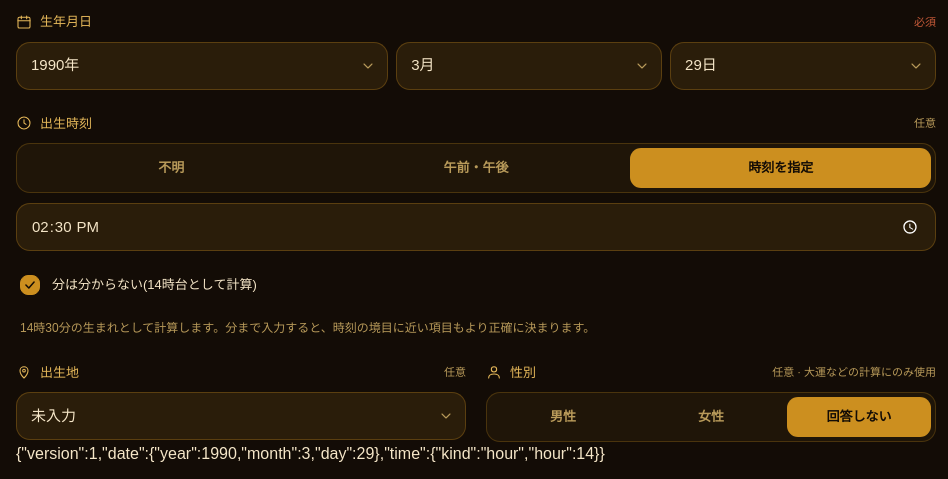
Scenario: BirthFields › 「分は分からない」を付けると分を30分にそろえ、30分以外を選ぶとチェックを外すこと
Expected: the checkbox labelled "分は分からない(14時台として計算)" is checked, [20,275,40,295]
Replace the text in the time field named "出生時刻" with "14:45": (476, 227) [16,203,936,251]
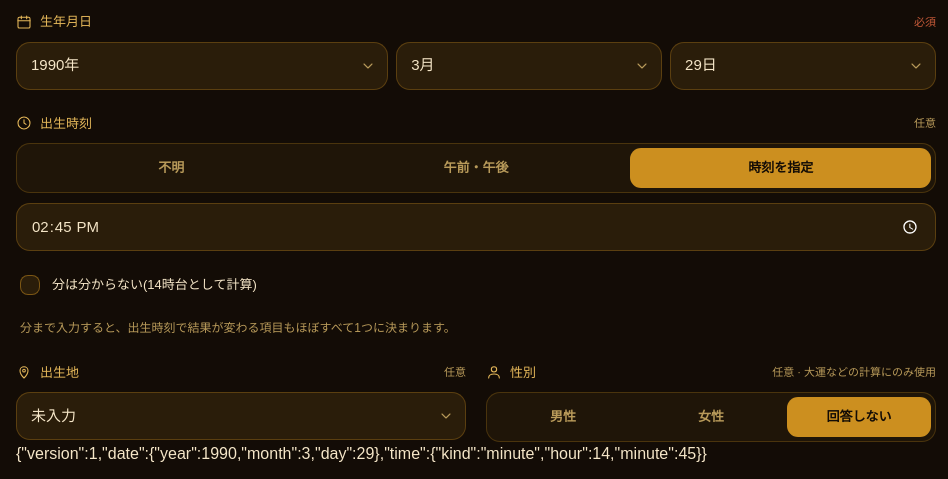
Expected: the checkbox labelled "分は分からない(14時台として計算)" is not checked, [20,275,40,295]
# チェックを外しているときに30分を選んでもチェックは入れない
Replace the text in the time field named "出生時刻" with "14:30": (476, 227) [16,203,936,251]
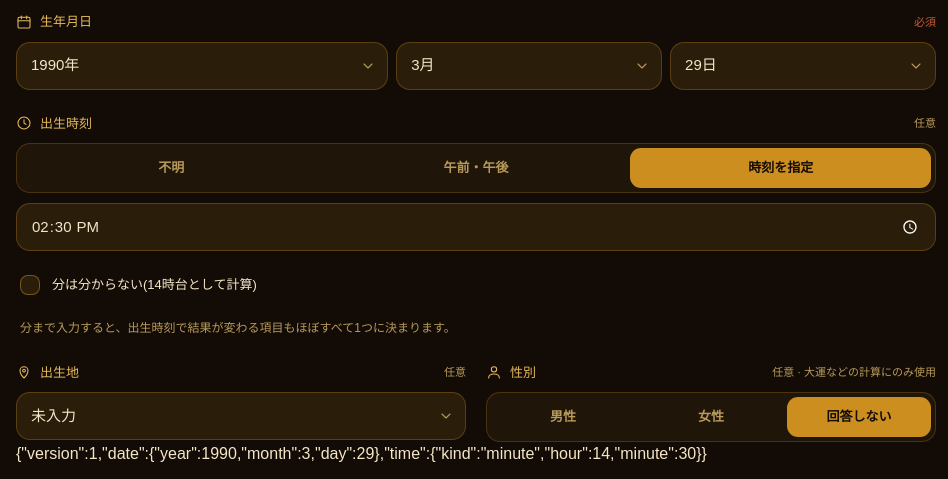
Expected: the checkbox labelled "分は分からない(14時台として計算)" is not checked, [20,275,40,295]
Replace the text in the time field named "出生時刻" with "09:10": (476, 227) [16,203,936,251]
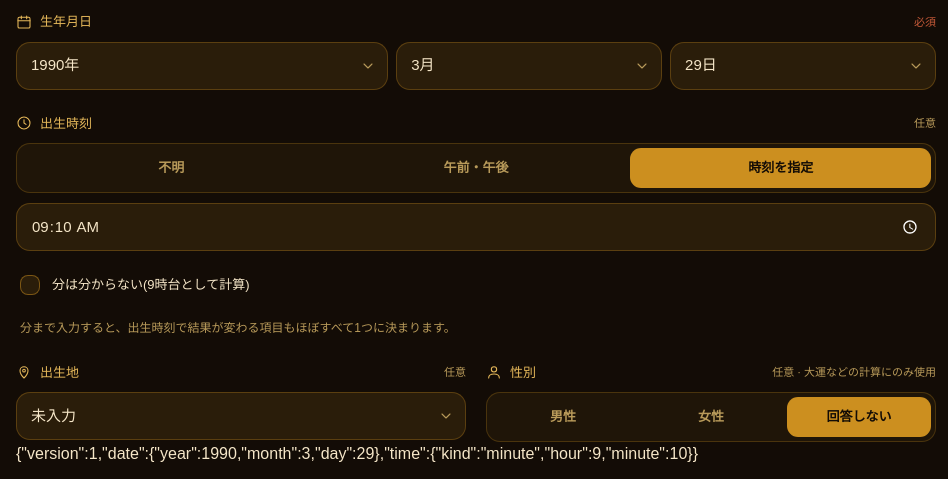
Click the checkbox named "分は分からない(14時台として計算)": (30, 285) [20,275,40,295]
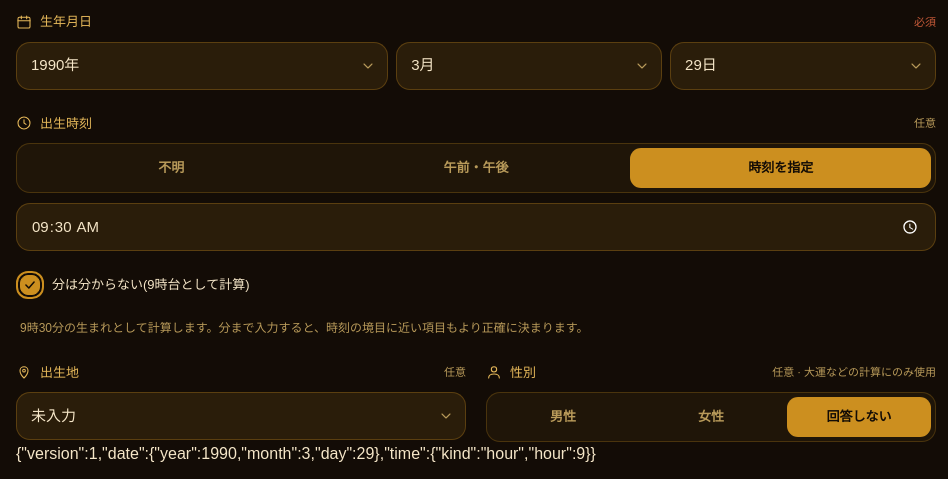
Expected: the time field named "出生時刻" holds "09:30", [16,203,936,251]
